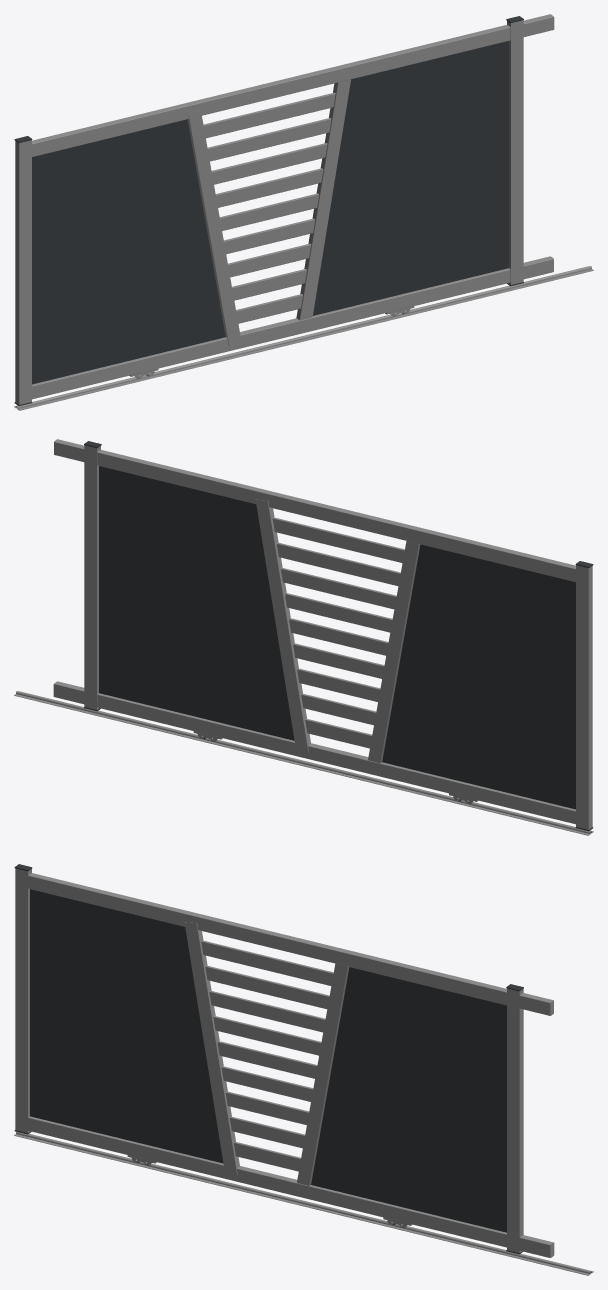
The picture shows the model from 3 angles, top to bottom: view 1: azimuth 30°, elevation 25°; view 2: azimuth 150°, elevation 25°; view 3: azimuth 330°, elevation 25°; orthographic projection.
Parts seen in each view (by area): view 1: Chapa Alucobond041, Chapa Alucobond002, Shape107411740, Shape107411741, Pilar, Pilar001, Shape332, Shape107412793, Rail, Shape343, Shape342, Shape341 (+6 smaller); view 2: Chapa Alucobond041, Chapa Alucobond002, Shape107411740, Shape107411741, Pilar, Pilar001, Shape107412793, Rail, Shape332, Shape343, Shape342, Shape341 (+6 smaller); view 3: Chapa Alucobond041, Chapa Alucobond002, Shape107411740, Shape107411741, Pilar001, Pilar, Shape332, Rail, Shape107412793, Shape343, Shape342, Shape341 (+6 smaller).
Part boxes in pixels (x1,y1,x2,y2): Chapa Alucobond041: (313, 41, 508, 315); Chapa Alucobond002: (32, 119, 225, 384); Shape107411740: (32, 14, 554, 156); Shape107411741: (32, 256, 553, 399); Pilar: (15, 140, 31, 404); Pilar001: (507, 20, 523, 284); Shape332: (187, 109, 241, 346); Shape107412793: (296, 79, 350, 320); Rail: (14, 266, 593, 410); Shape343: (203, 92, 335, 138); Shape342: (207, 118, 331, 161); Shape341: (211, 143, 327, 184); Chapa Alucobond041: (99, 466, 294, 740); Chapa Alucobond002: (382, 544, 575, 809); Shape107411740: (54, 439, 575, 581); Shape107411741: (53, 681, 575, 824); Pilar: (576, 565, 592, 829); Pilar001: (84, 445, 100, 709); Shape107412793: (255, 499, 310, 752); Rail: (14, 691, 593, 835); Shape332: (368, 541, 420, 763); Shape343: (272, 517, 404, 562); Shape342: (277, 542, 400, 586); Shape341: (281, 567, 396, 609); Chapa Alucobond041: (311, 967, 506, 1232); Chapa Alucobond002: (30, 889, 223, 1163); Shape107411740: (28, 873, 553, 1015); Shape107411741: (28, 1116, 554, 1257); Pilar001: (507, 988, 523, 1253); Pilar: (15, 868, 31, 1133); Shape332: (184, 922, 239, 1174); Rail: (14, 1131, 593, 1275); Shape107412793: (297, 963, 349, 1185); Shape343: (201, 940, 333, 985); Shape342: (205, 965, 329, 1009); Shape341: (209, 990, 325, 1032).
Size of the model in its own units: 3600 by 1606 by 60.02.
Materials: 8 (4 with a texture image).
